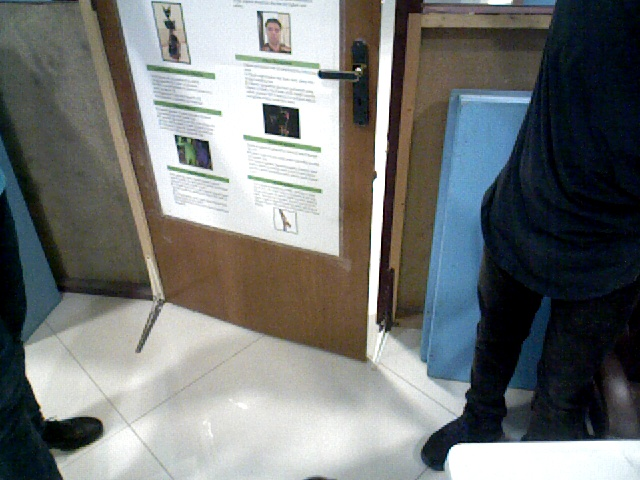door_handle: (319, 37, 375, 131)
